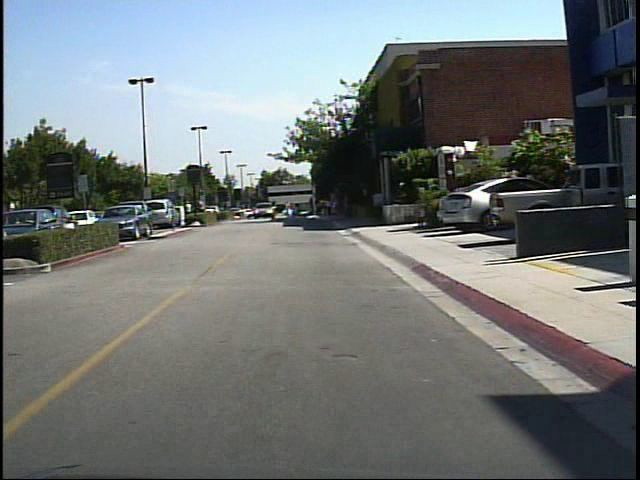person: (180, 194, 197, 224), (281, 196, 296, 223)
